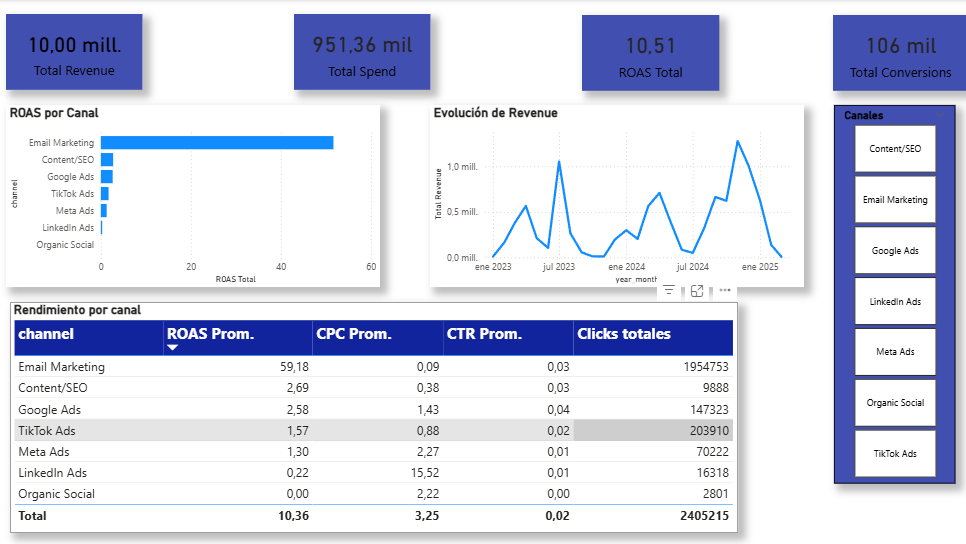

The page's visual inventory and layout, read from the dashboard file:
{"tool":"powerbi","page":{"name":"Executive Summary","canvas":[1280,720],"ordinal":0},"visuals":[{"type":"card","fields":{"Values":["fact_daily_performance.Total Revenue"]},"box":[10,0,280,280],"z":0},{"type":"card","fields":{"Values":["fact_daily_performance.Total Spend"]},"box":[325.1,0,279.9,279.9],"z":1},{"type":"card","fields":{"Values":["fact_daily_performance.Total Conversions"]},"box":[1000.1,0,279.9,279.9],"z":2},{"type":"card","fields":{"Values":["fact_daily_performance.ROAS Total"]},"box":[640,53.5,279.9,170.8],"z":5},{"type":"clusteredBarChart","fields":{"Category":["dim_campaigns.channel"],"Y":["fact_daily_performance.ROAS Total"]},"box":[10.3,290.2,314.9,370.4],"z":6},{"type":"lineChart","fields":{"Y":["fact_daily_performance.Total Revenue"],"Category":["dim_dates.year_month"]},"box":[325,290,280,370],"z":7}]}

Visuals, with their boxes in screenshot pixels (x1, y1, x2, y2), scaled from the page's 1280x720 canvas onto the 966x544 screenshot:
card - fact_daily_performance.Total Revenue: 8:0:219:212
card - fact_daily_performance.Total Spend: 245:0:457:211
card - fact_daily_performance.Total Conversions: 755:0:965:211
card - fact_daily_performance.ROAS Total: 483:40:694:169
clusteredBarChart - dim_campaigns.channel x fact_daily_performance.ROAS Total: 8:219:245:499
lineChart - fact_daily_performance.Total Revenue x dim_dates.year_month: 245:219:457:499
